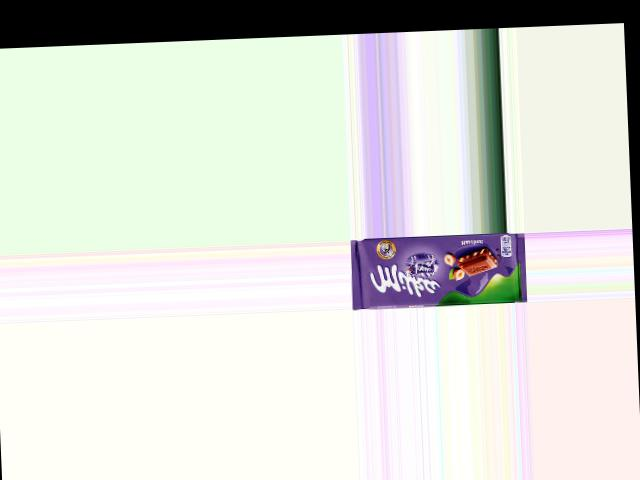chocolate: (350, 231, 528, 309)
